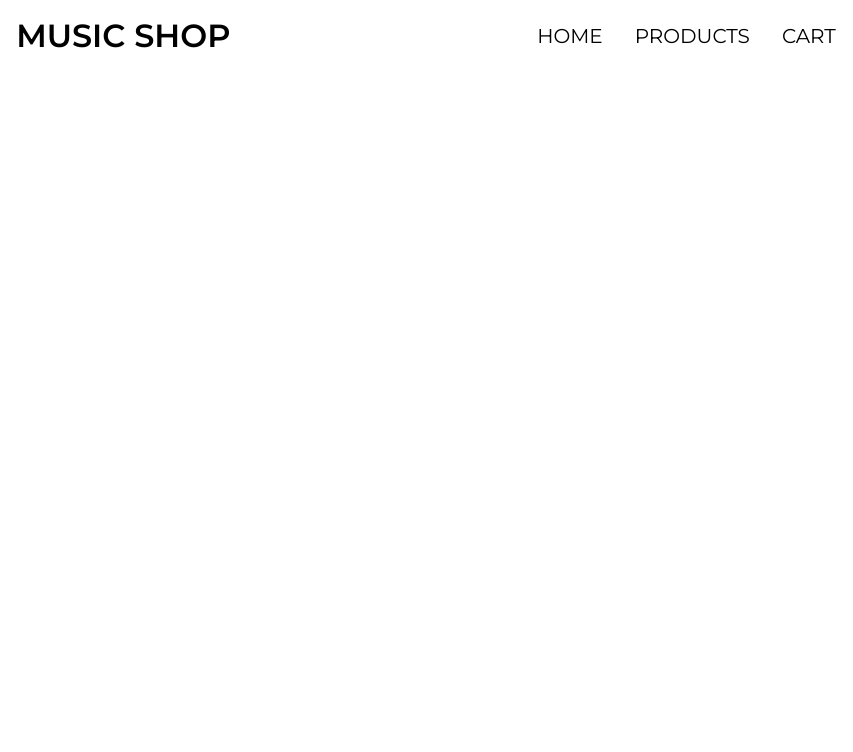
Navigation links › should display the home page when clicking on the Music shop header
Step 1. Click the link "MUSIC SHOP" → (123, 36), box [16,16,230,55]
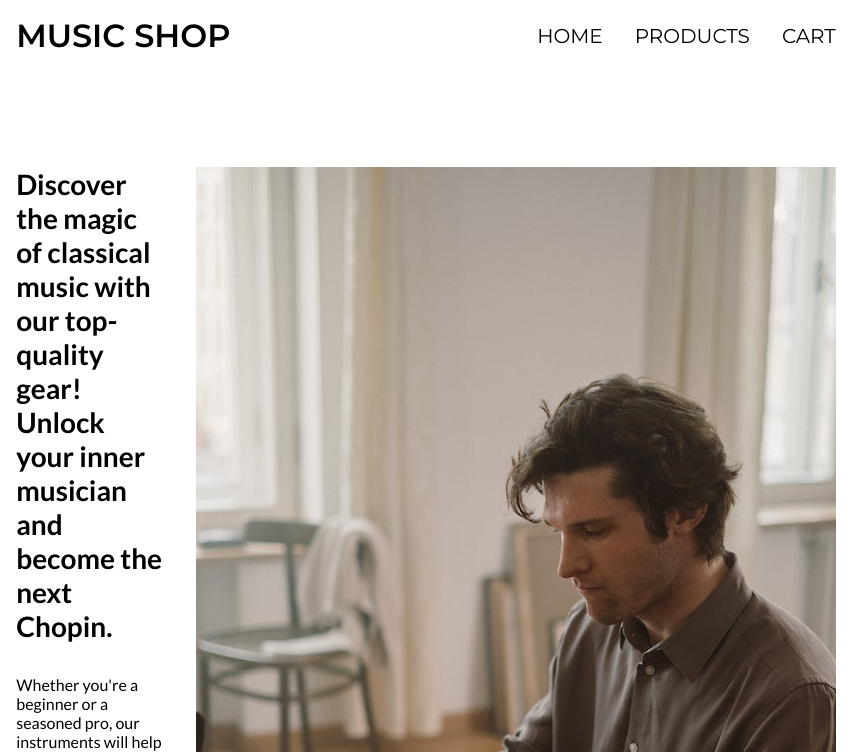
Expected: the heading "become the next Chopin" is shown, [16,167,162,643]
